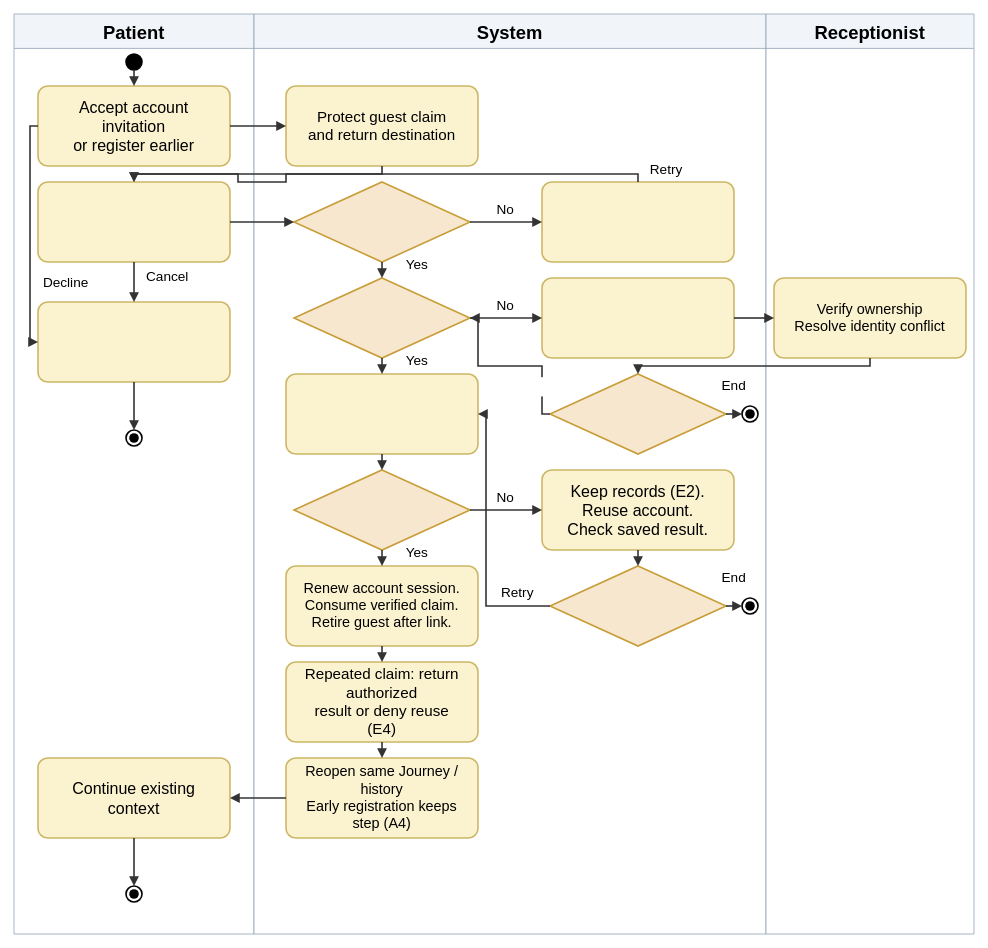
Image size: 988x948. Some labels were removed from this diagram. The centre of each missing label's shape, as x and y in pixels:
"Account authenticated?" goes at point 381,221.
"Decline / cancel (A1/A2) Keep valid guest context" goes at point 133,341.
"Guest claim / ownership verified?" goes at point 381,317.
"Keep guest context (E1) Retry UC01 or cancel" goes at point 637,221.
"Link confirmed?" goes at point 381,509.
"Link same records consistently Preserve current progress" goes at point 381,413.
"Recovery successful?" goes at point 637,413.
"Require verified recovery (E3) Never trust a Visit ID alone" goes at point 637,317.
"Retry requested?" goes at point 637,605.
"Revalidate" goes at point 546,386.
"UC01: Register or sign in Existing account: sign in (A3)" goes at point 133,221.
